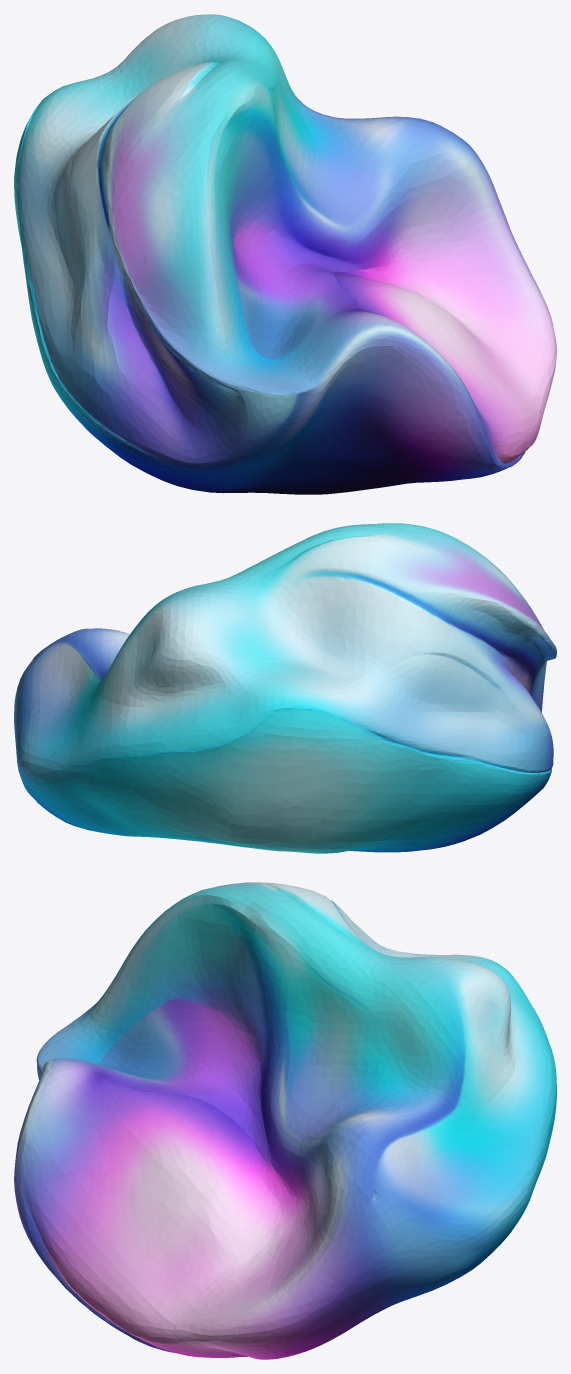
The picture shows the model from 3 angles, top to bottom: view 1: azimuth 30°, elevation 25°; view 2: azimuth 150°, elevation 25°; view 3: azimuth 270°, elevation 25°; orthographic projection. The views are drawn at different scales.
Visible parts, largest first — view 1: world; view 2: world; view 3: world.
Boxes of the visible parts, x1,y1,x2,y2 form: world: (14,14,556,494); world: (14,523,556,853); world: (14,882,556,1359).
Size of the model in its own units: 0.9706 by 0.7231 by 0.9882.
Materials: 1 (1 with a texture image).
